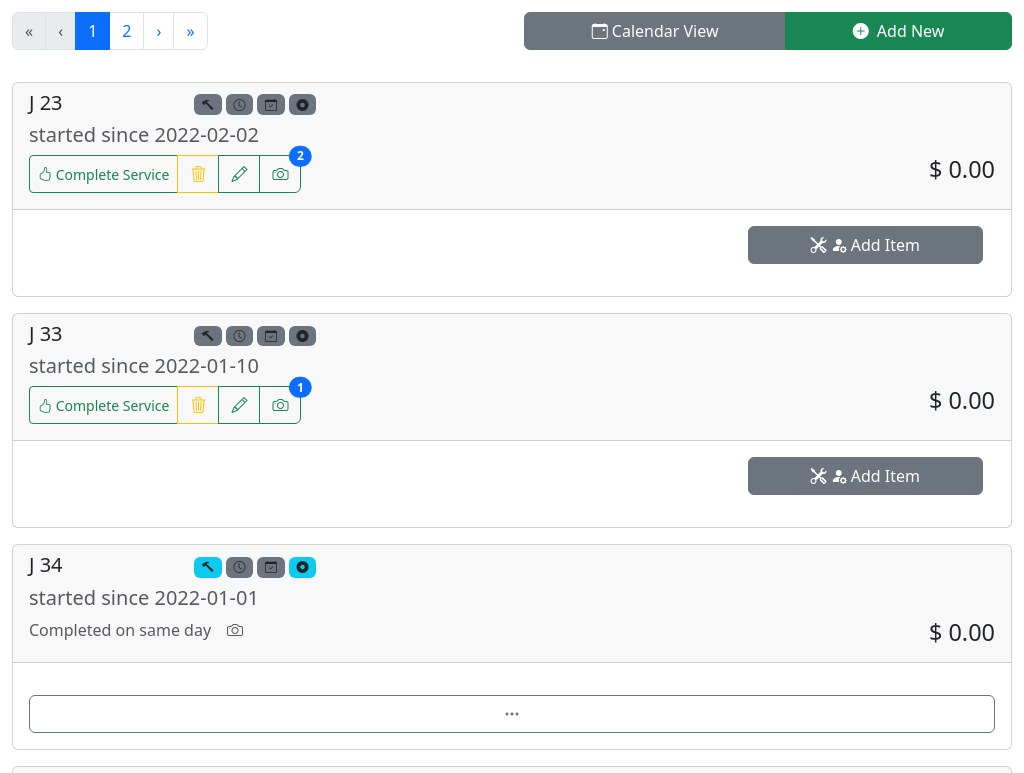
Scenario: listing no search options, then add search option
// click page 2
Click the button named "page 2 button" at (127, 31), box x1=109 y1=12 x2=144 y2=50
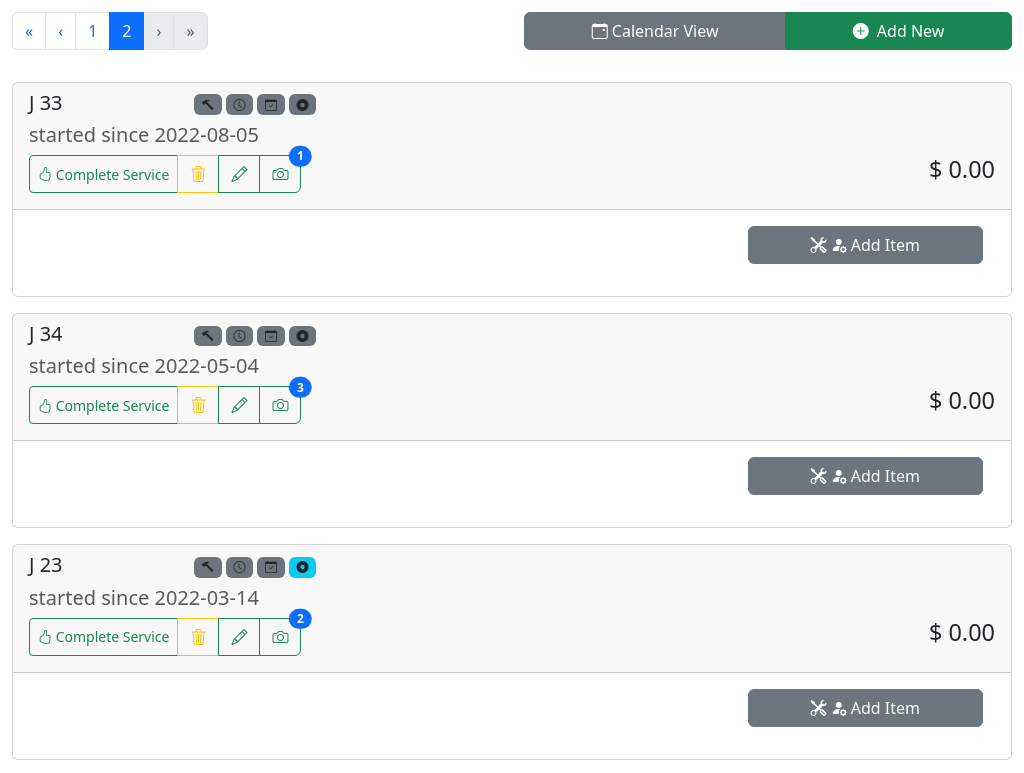
Now the number of buttons "Complete Service" is 5
Now the number of list items named "service type: tyre" is 1, box x1=289 y1=557 x2=316 y2=578
